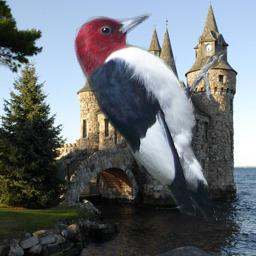Woodpecker: (73, 13, 232, 221)
